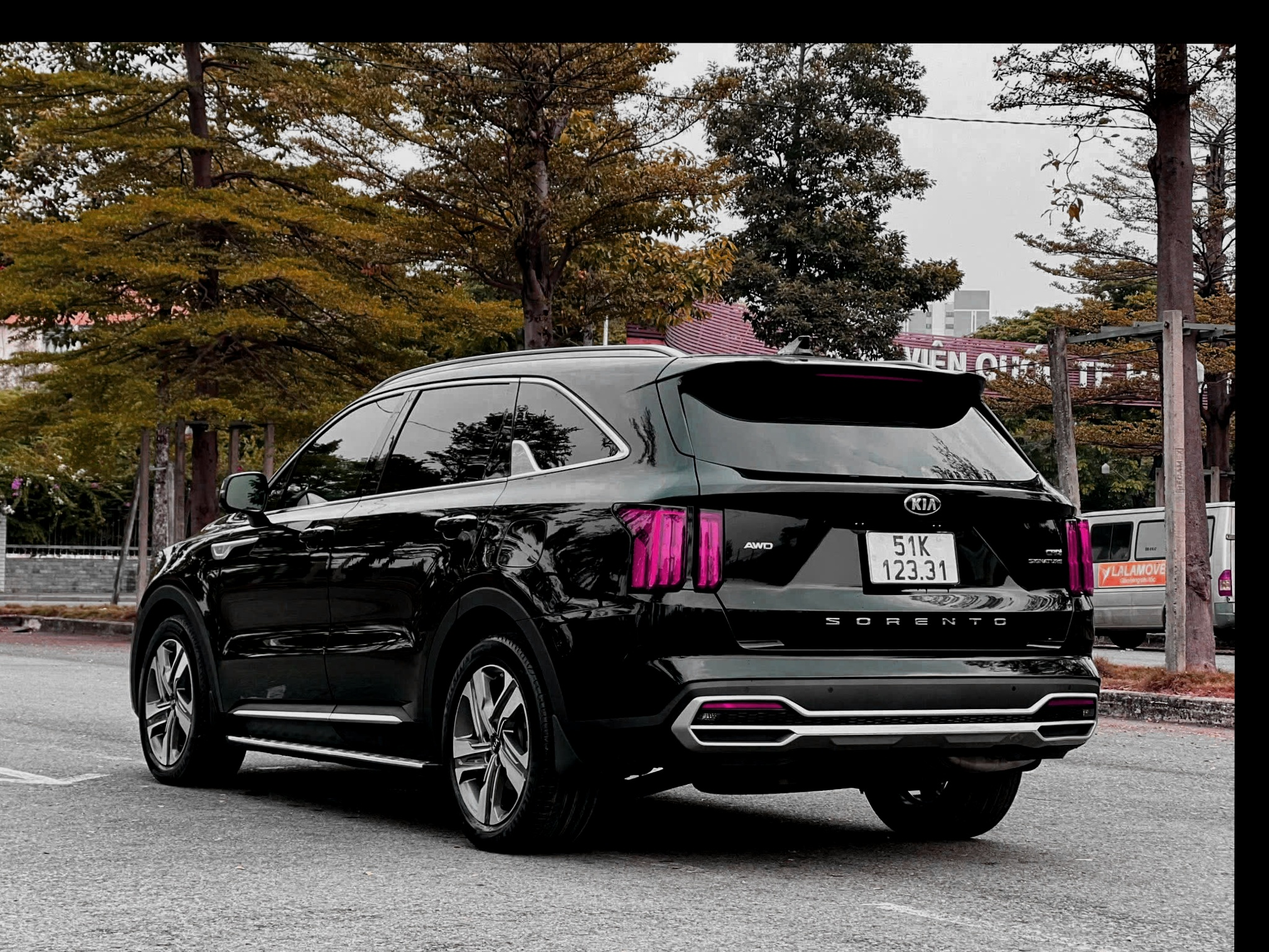Bien-so: (880, 496, 979, 570)
